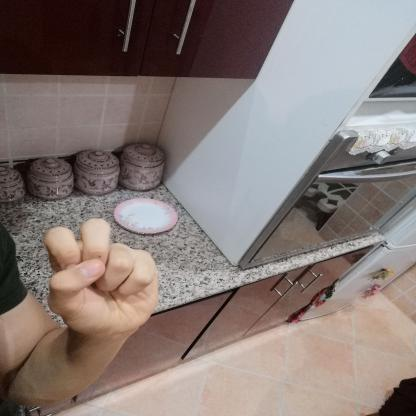QAAF: (33, 209, 171, 346)
